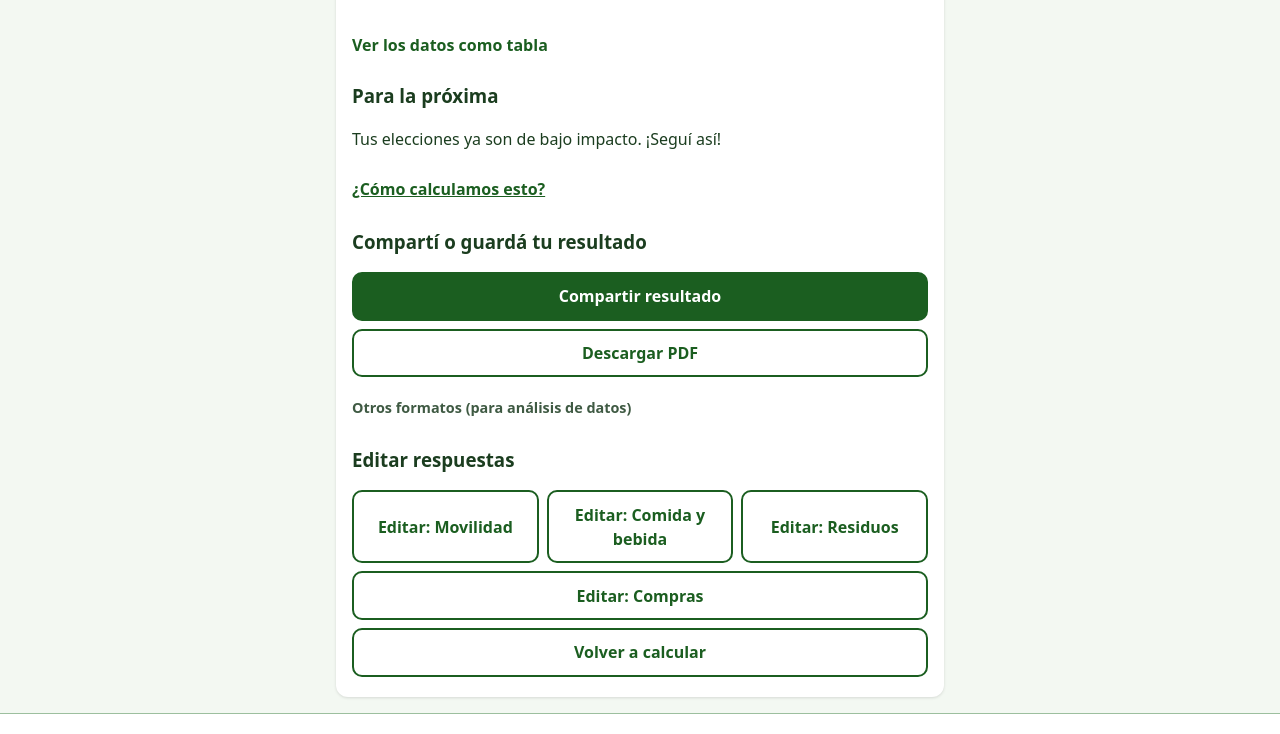
Test: resultados › compartir sin Web Share copia el texto al portapapeles
(page scrolled)
Click the button "Compartir resultado". click: (640, 296)
box: [352, 272, 928, 321]
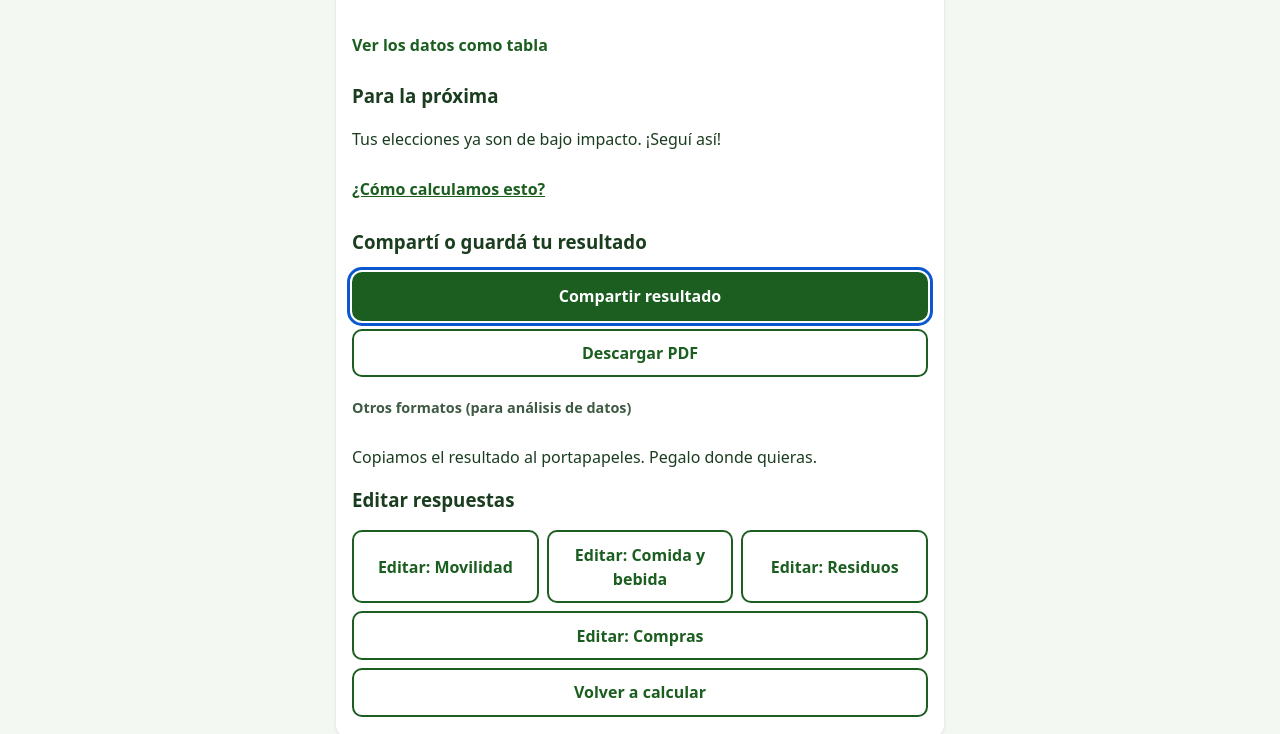
Expected: the text "Copiamos el resultado al portapapeles. Pegalo donde quieras." is shown, [352, 446, 817, 468]
